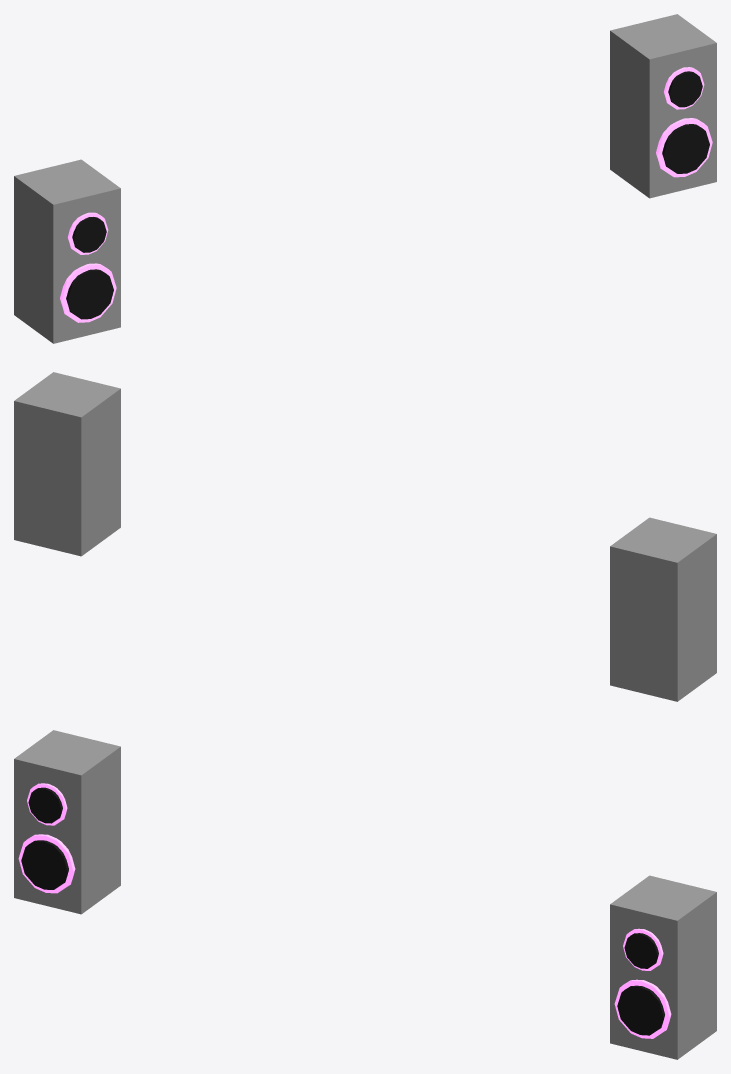
File: sound system.glb
3 renders of one model, top to bottom at view 1: azimuth 30°, elevation 25°; view 2: azimuth 150°, elevation 25°; view 3: azimuth 330°, elevation 25°, orthographic.
Visible parts, largest first — view 1: sound system.006; view 2: sound system.006; view 3: sound system.006.
Boxes of the visible parts, left/top/right/bottom form: sound system.006: left=14, top=14, right=716, bottom=343; sound system.006: left=14, top=372, right=716, bottom=701; sound system.006: left=14, top=730, right=716, bottom=1059.
Size of what is drawn, in the model's own units: 7.53 by 1.51 by 0.8456.
